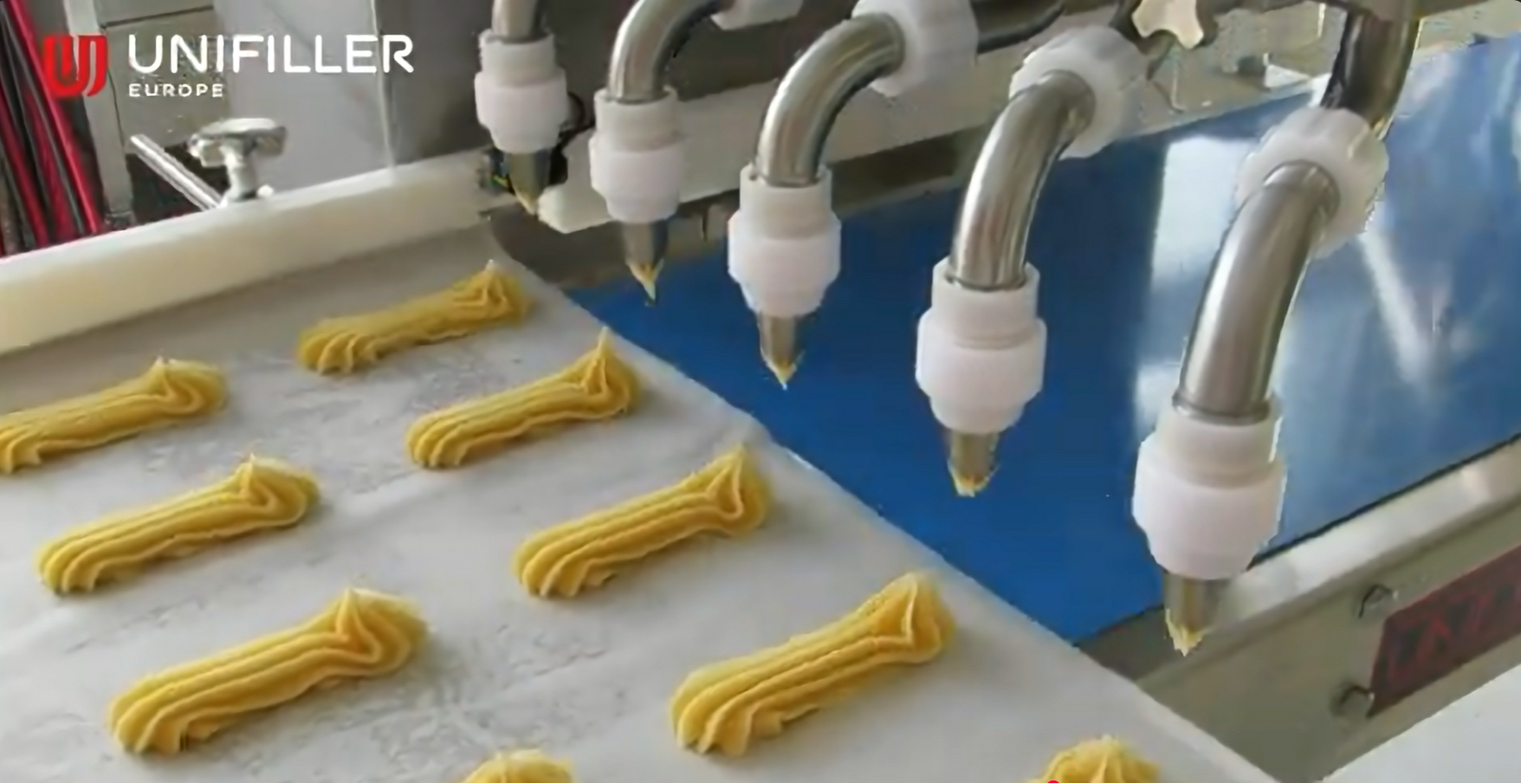Vermicelli: (652, 566, 967, 765), (114, 597, 431, 760), (513, 439, 769, 609), (39, 455, 321, 594), (411, 336, 637, 466), (298, 257, 534, 373), (0, 353, 229, 472), (1034, 732, 1162, 783)
